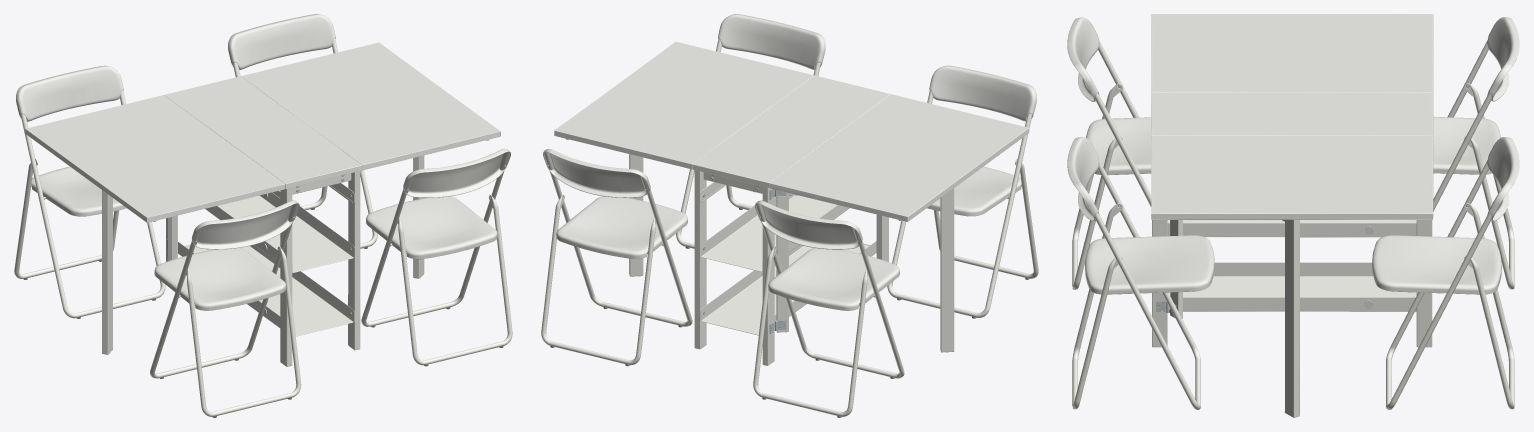
The model's file is vihals_vihals_sto_i_4_krzesa_89599364.glb.
The picture shows the model from 3 angles, left to right: view 1: azimuth 30°, elevation 25°; view 2: azimuth 150°, elevation 25°; view 3: azimuth 270°, elevation 25°; orthographic projection. The views are drawn at different scales.
Parts seen in each view (by area): view 1: vihals_vihals_sto_i_4_krzesa_89599364; view 2: vihals_vihals_sto_i_4_krzesa_89599364; view 3: vihals_vihals_sto_i_4_krzesa_89599364.
Part boxes in pixels (<box>): vihals_vihals_sto_i_4_krzesa_89599364: <box>14,14,512,417</box>; vihals_vihals_sto_i_4_krzesa_89599364: <box>541,14,1038,417</box>; vihals_vihals_sto_i_4_krzesa_89599364: <box>1067,14,1519,417</box>.
Size of the model in its own units: 1.51 by 0.7967 by 1.44.
6 materials, 6 textured.
